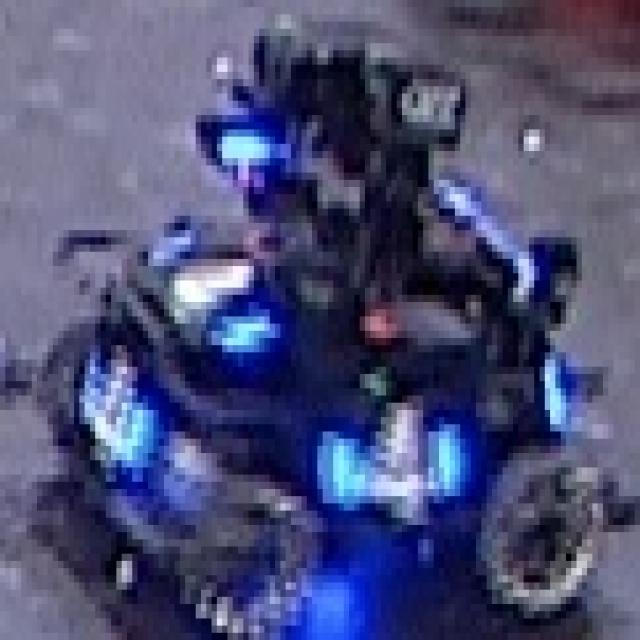B4: (307, 384, 465, 528), (135, 208, 272, 374), (53, 338, 174, 496)
